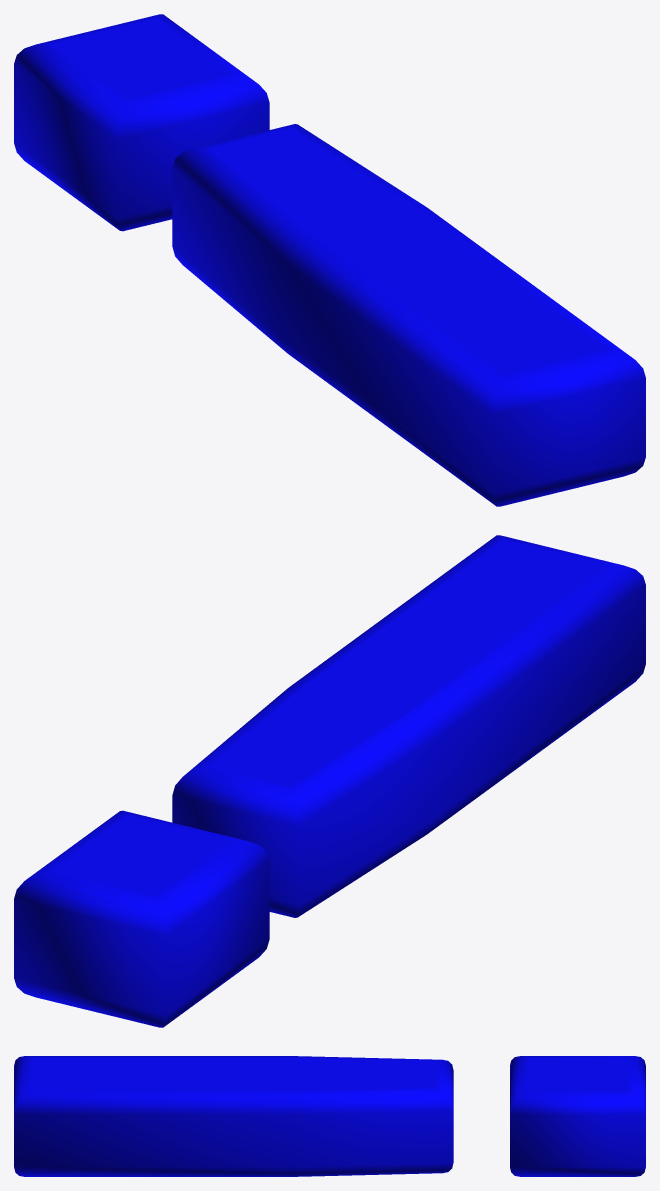
3 views of the same model, one above another, from view 1: azimuth 30°, elevation 25°; view 2: azimuth 150°, elevation 25°; view 3: azimuth 270°, elevation 25° (orthographic). The views are drawn at different scales.
Visible parts, largest first — view 1: 161; view 2: 161; view 3: 161.
Part boxes in pixels (x1=…): 161: x1=14, y1=14, x2=645, y2=506; 161: x1=14, y1=535, x2=645, y2=1027; 161: x1=14, y1=1056, x2=645, y2=1176.
Size of the model in its own units: 0.2013 by 0.16 by 1.1.
